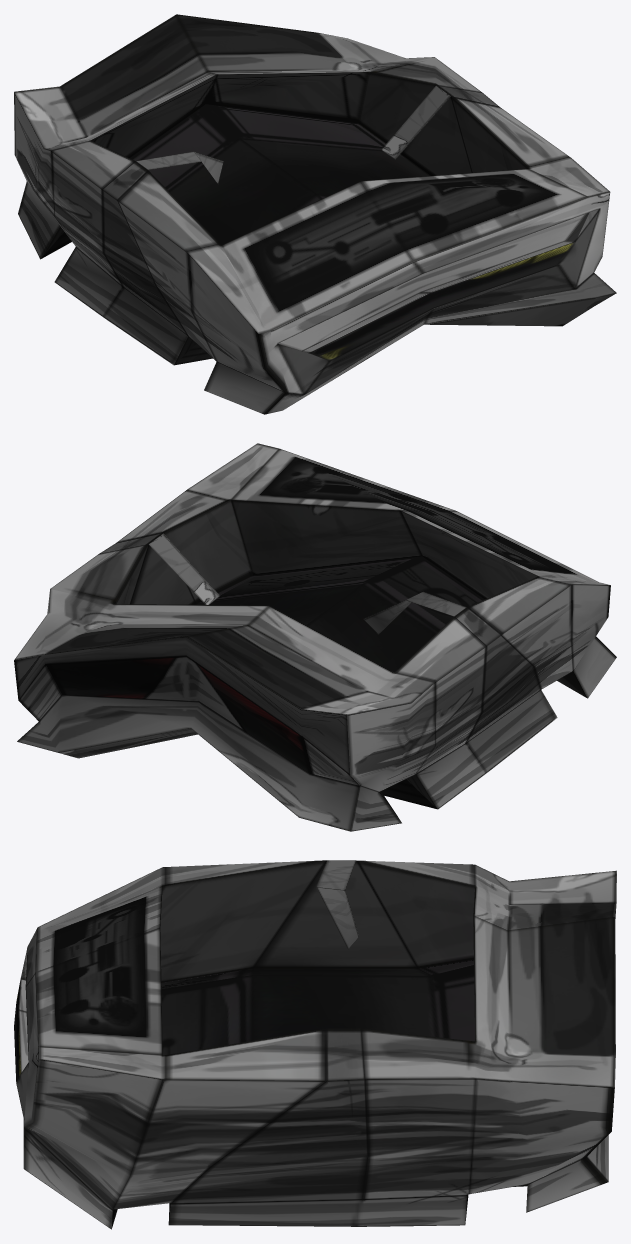
The model's file is JunkCar.fbx.
3 renders of one model, top to bottom at view 1: azimuth 30°, elevation 25°; view 2: azimuth 150°, elevation 25°; view 3: azimuth 270°, elevation 25°, orthographic. The views are drawn at different scales.
Parts seen in each view (by area): view 1: pCube25; view 2: pCube25; view 3: pCube25.
Boxes of the visible parts, x1,y1,x2,y2 form: pCube25: [14, 14, 616, 414]; pCube25: [14, 443, 616, 831]; pCube25: [14, 860, 616, 1229].
Bounding box in the file's own units: 22.3 × 9.91 × 26.63.
